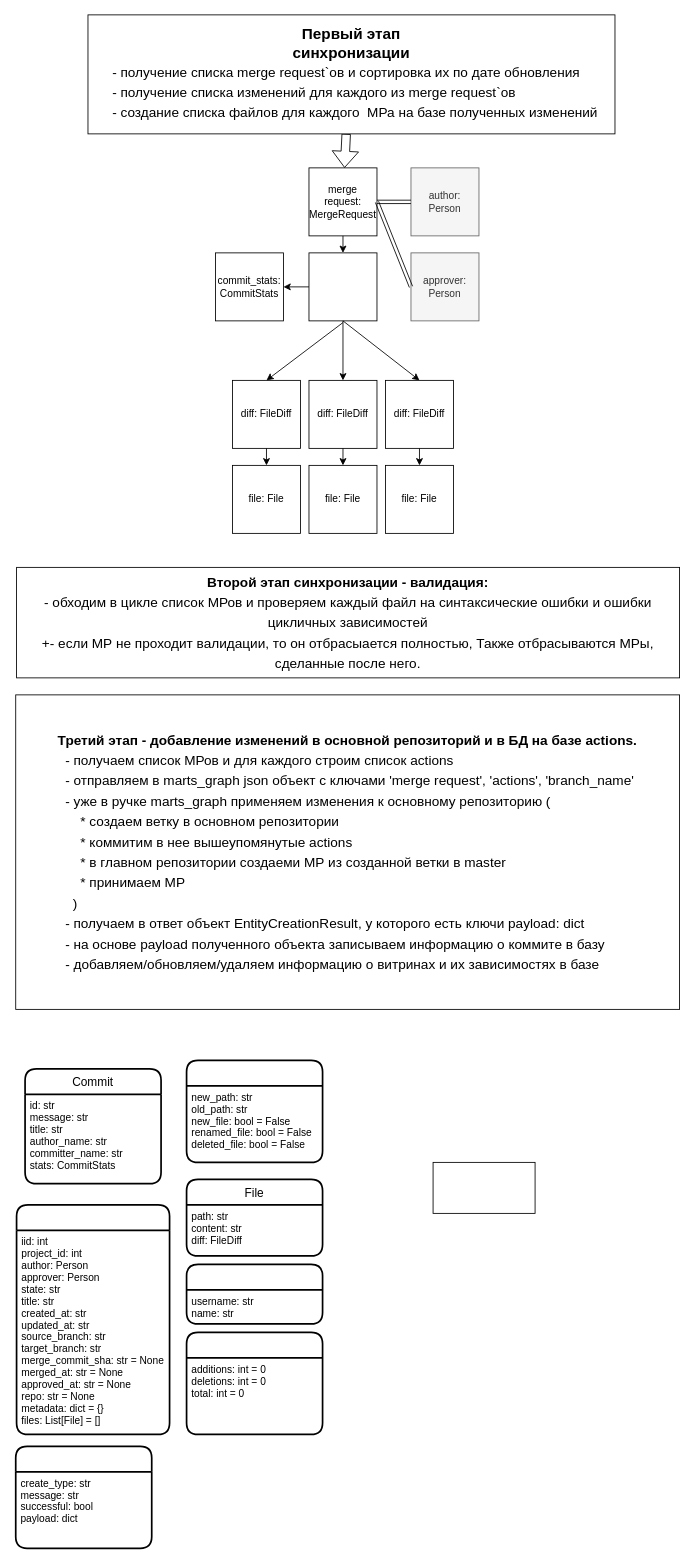
Image size: 694x1564. Some labels were removed from this diagram. The shapes that lost their labels are listed below. From the top down, each one's box as (x1, y1, x2, y2) in pixels, then its label:
(308, 252, 377, 321): commit(s): Commit
(185, 1059, 323, 1163): FileDiff
(432, 1162, 535, 1213): merge_request actions branch_name repo
(185, 1263, 323, 1324): Person
(15, 1204, 170, 1435): MergeRequest
(185, 1331, 323, 1435): CommitStats
(14, 1445, 152, 1549): EntityCreationResult
